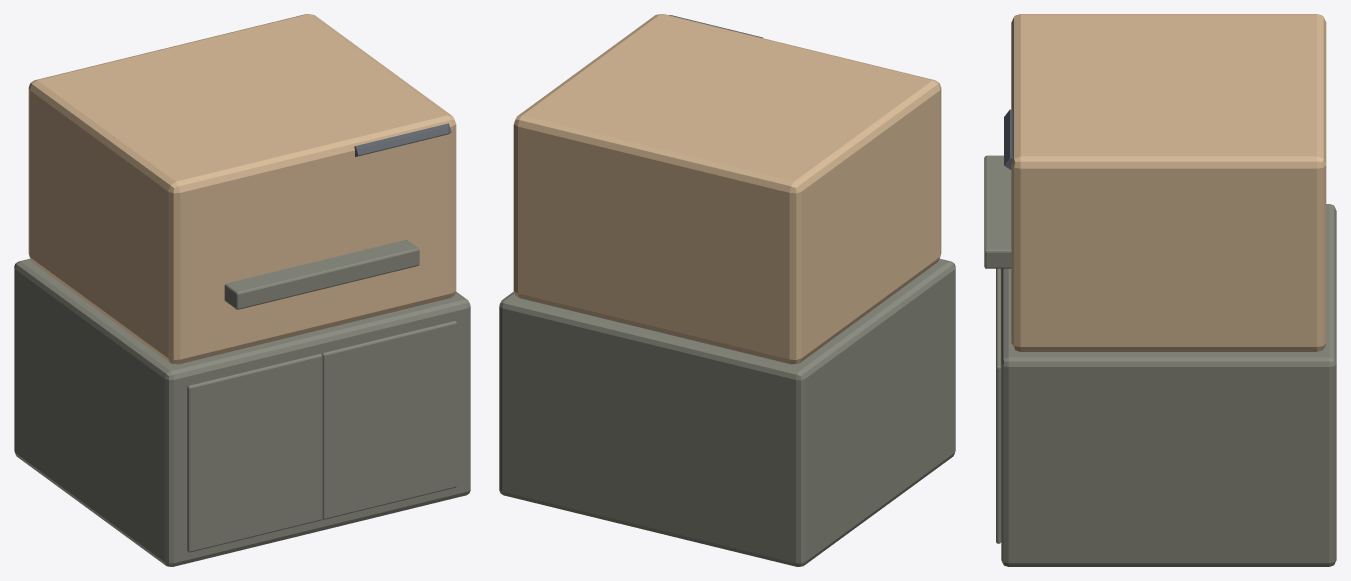
Rendered from print___utility_office_asset_library_14.glb.
3 renders of one model, left to right at view 1: azimuth 30°, elevation 25°; view 2: azimuth 150°, elevation 25°; view 3: azimuth 270°, elevation 25°, orthographic. The views are drawn at different scales.
Parts seen in each view (by area): view 1: Cube; view 2: Cube; view 3: Cube.
Boxes of the visible parts, x1,y1,x2,y2 form: Cube: [14, 14, 470, 566]; Cube: [499, 14, 955, 566]; Cube: [984, 14, 1336, 566].
Size of the model in its own units: 0.72 by 0.8526 by 0.672.
